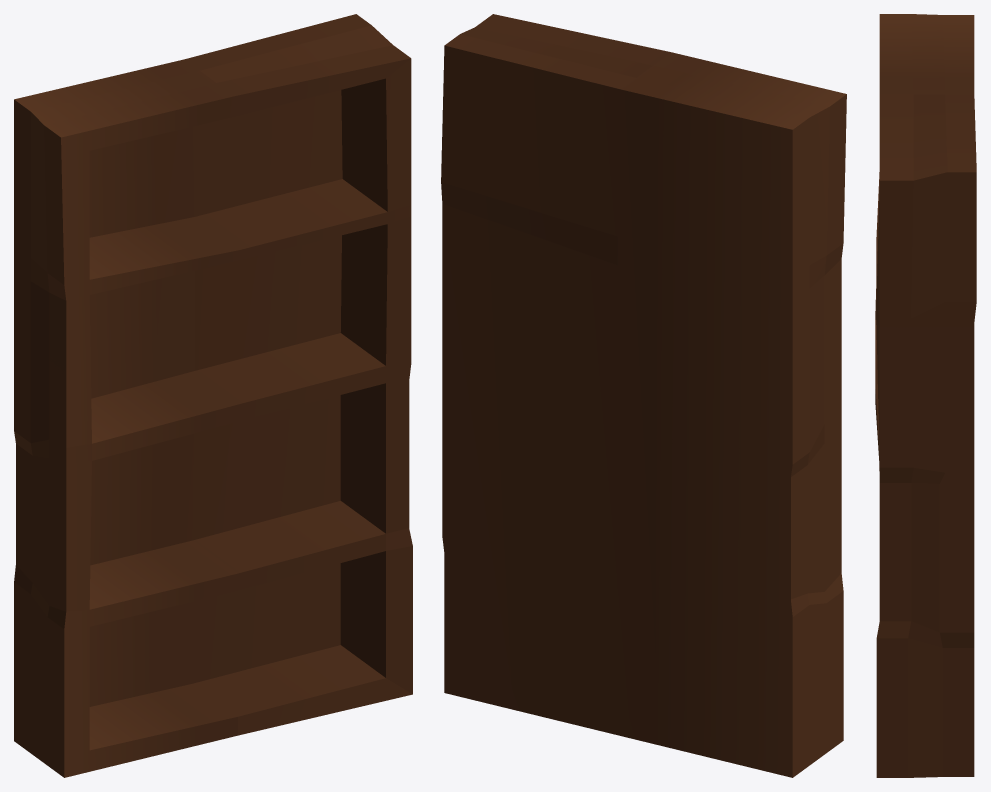
The model's file is Bookcase.fbx.
3 renders of one model, left to right at view 1: azimuth 30°, elevation 25°; view 2: azimuth 150°, elevation 25°; view 3: azimuth 270°, elevation 25°, orthographic. The views are drawn at different scales.
Visible parts, largest first — view 1: Bookcase; view 2: Bookcase; view 3: Bookcase.
Part boxes in pixels (x1,y1,x2,y2): Bookcase: (14,14,412,777); Bookcase: (441,14,846,777); Bookcase: (875,14,976,777).
Size of the model in its own units: 92.69 by 162 by 24.74.
